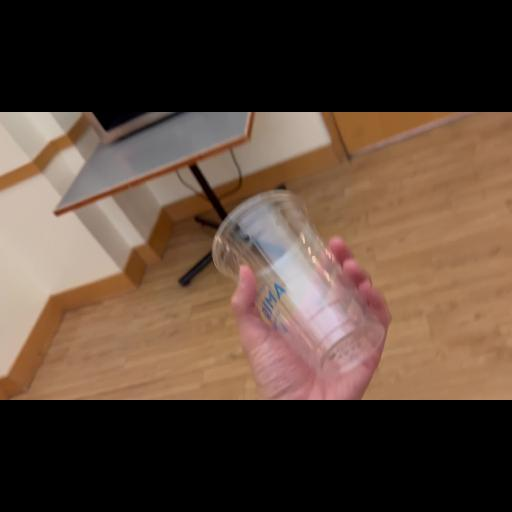lp_plastic_cup: (207, 180, 389, 374)
